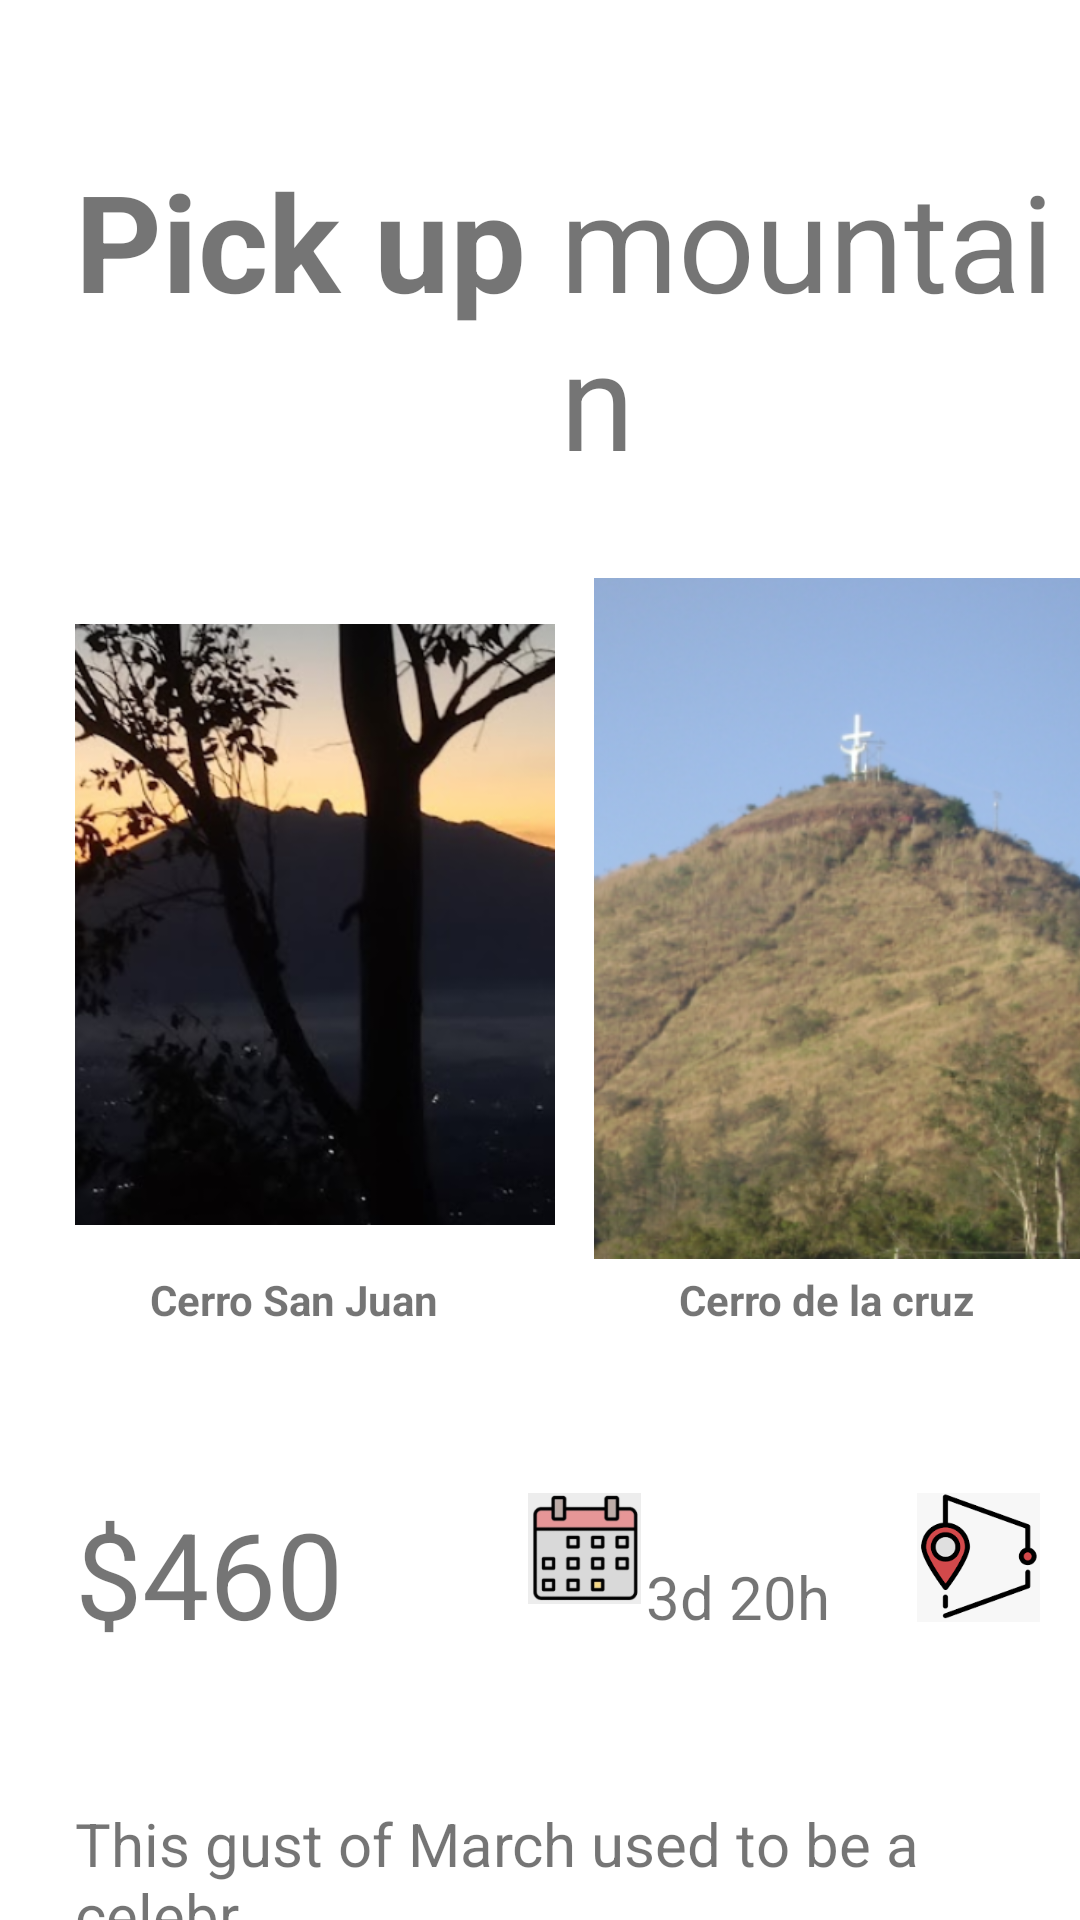

Screen size 1080 × 1920. Icon name, then its box in pixels as (x1, y1, x2, y2):
calen: (533, 1495, 638, 1601)
dist: (921, 1494, 1037, 1619)
